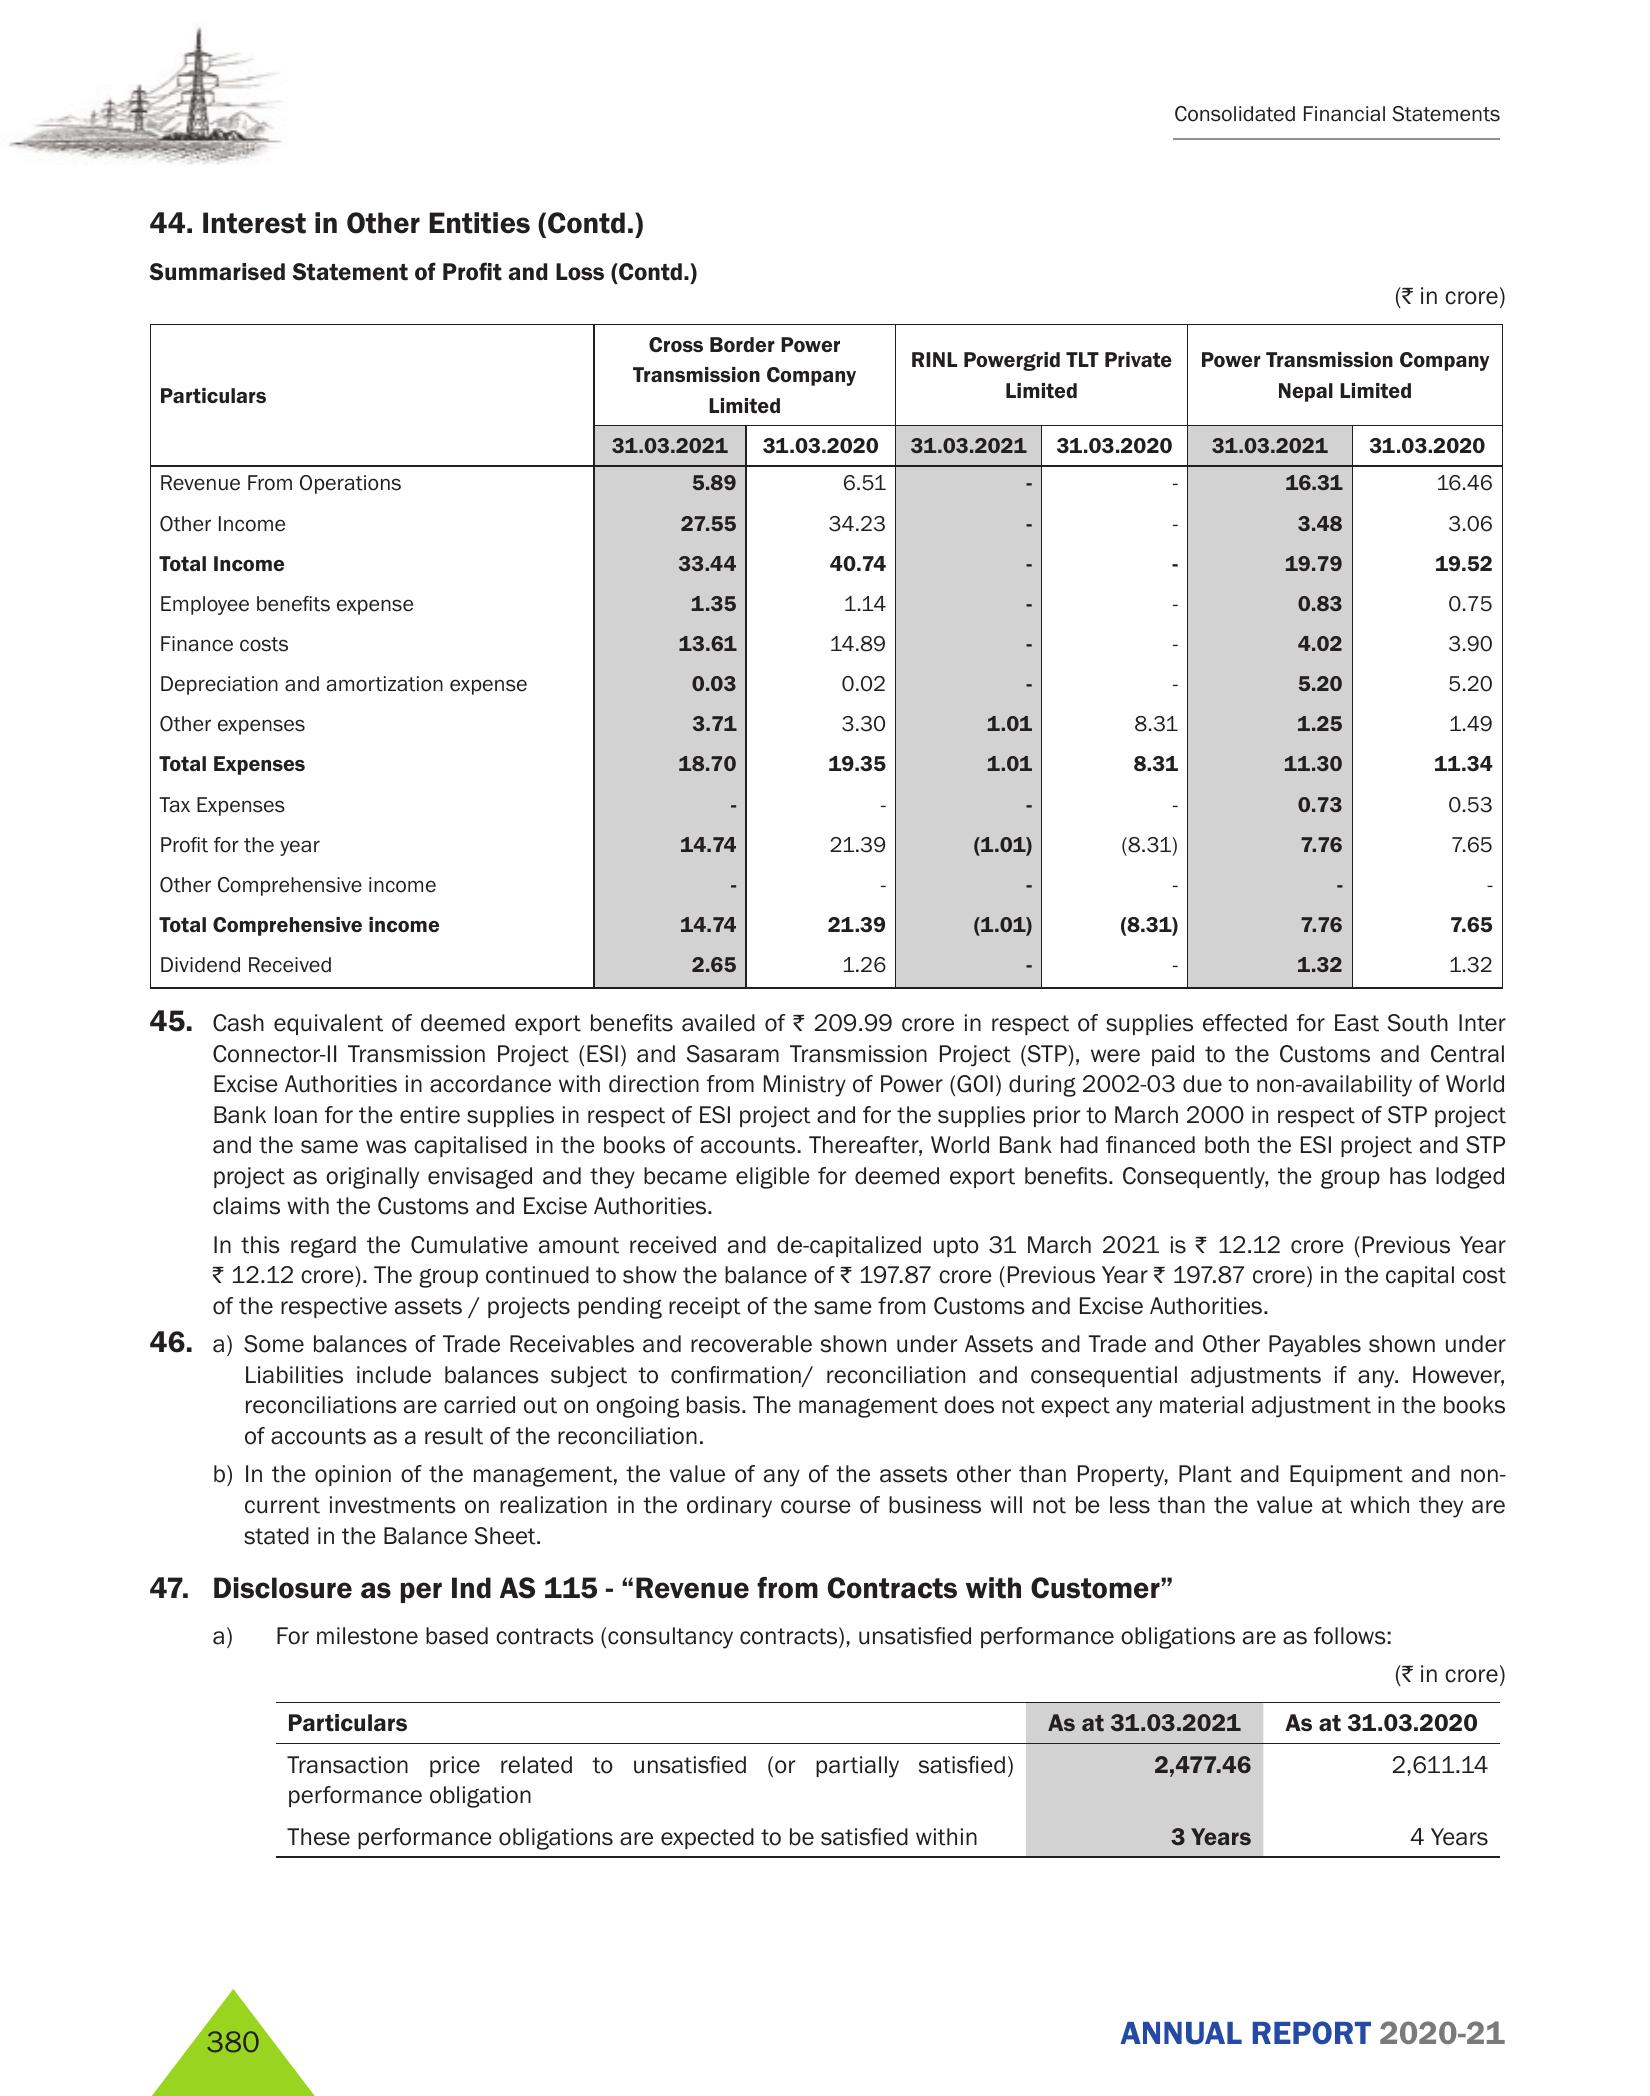Footer: (0, 1965, 1650, 2096)
Header: (0, 0, 1650, 175)
Table: (139, 298, 1521, 1000), (245, 1696, 1495, 1871)
